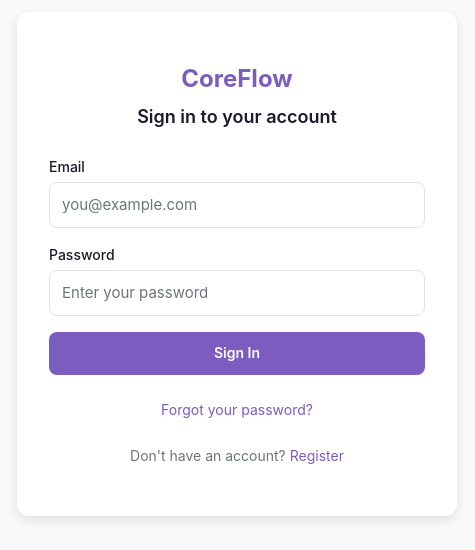
Scenario: LoginPage › shows error when password is empty
This screenshot has width=475, height=550.
Type "test@example.com" into the field labelled "Email".
click(237, 205); type("test@example.com")  # box x1=49 y1=182 x2=425 y2=228
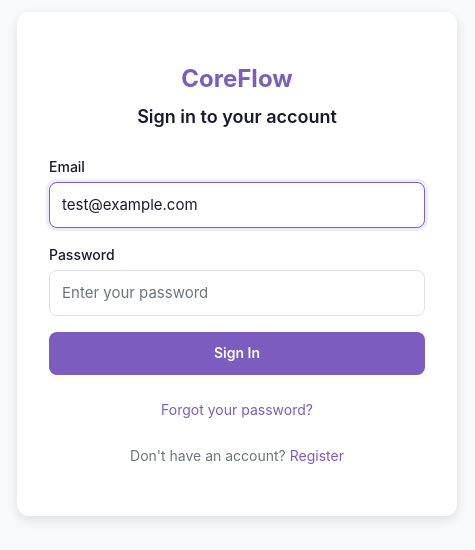
Click the button "Sign In".
click(237, 354)  # box x1=49 y1=332 x2=425 y2=375
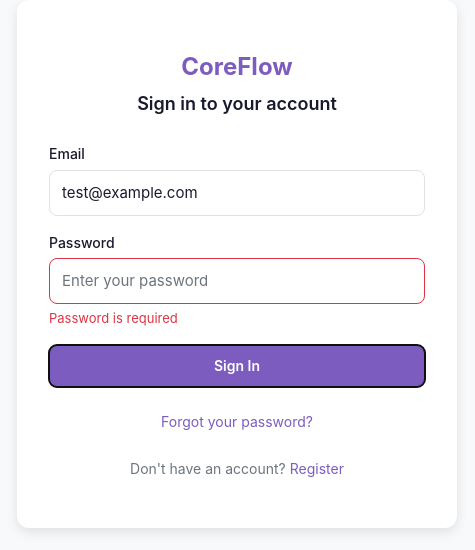
Now the text "Password is required" is shown, box x1=49 y1=310 x2=178 y2=326
